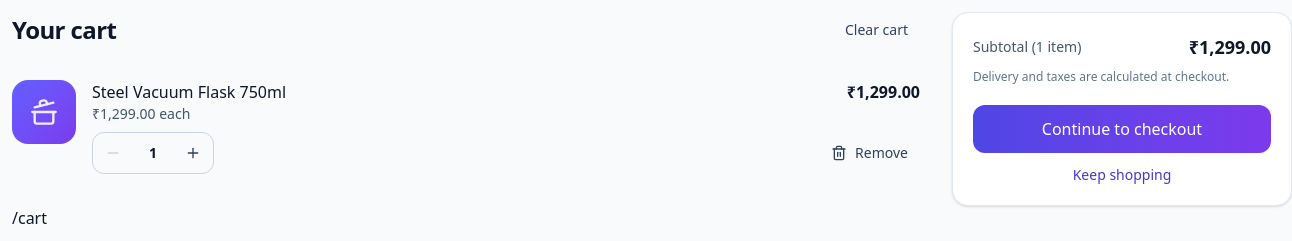
Test: CartPage › changes a quantity and updates the line total
Click the button named "Increase Steel Vacuum Flask 750ml": (193, 153) [173, 133, 213, 173]
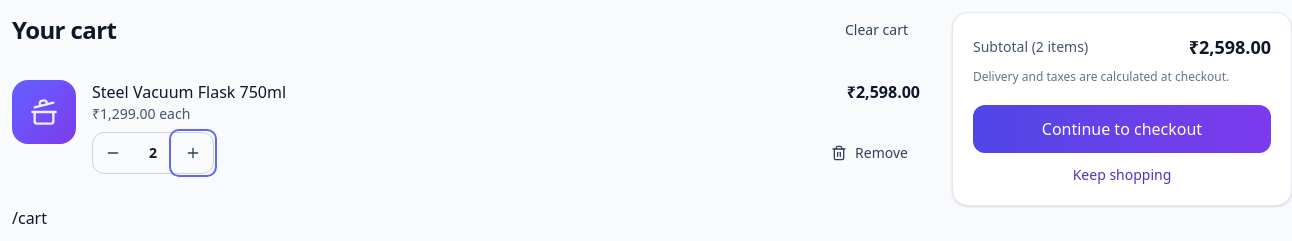
expect the element named "Order summary" shows "₹2,598.00": met, box [1189, 35, 1271, 59]
